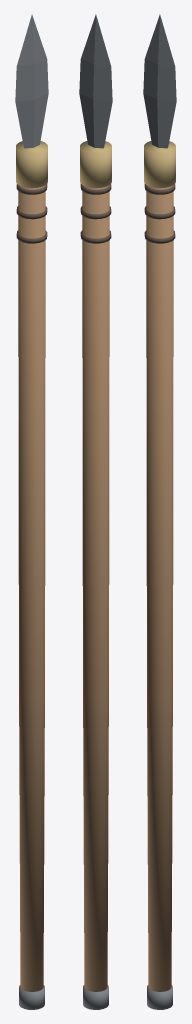
Rendered from Duseok_Spear_v1.glb.
3 views of the same model, side by side, from view 1: azimuth 30°, elevation 25°; view 2: azimuth 150°, elevation 25°; view 3: azimuth 330°, elevation 25° (orthographic).
Parts seen in each view (by area): view 1: SpearShaft, SpearBlade, SocketCollar, ButtCap, Cord0, Cord1, Cord2; view 2: SpearShaft, SpearBlade, SocketCollar, ButtCap, Cord0, Cord1, Cord2; view 3: SpearShaft, SpearBlade, SocketCollar, ButtCap, Cord0, Cord1, Cord2.
Boxes of the visible parts, x1,y1,x2,y2 form: SpearShaft: [18, 185, 45, 991]; SpearBlade: [15, 14, 48, 148]; SocketCollar: [16, 141, 47, 188]; ButtCap: [19, 985, 44, 1009]; Cord0: [16, 230, 47, 243]; Cord1: [16, 206, 47, 219]; Cord2: [16, 184, 47, 194]; SpearShaft: [82, 185, 109, 991]; SpearBlade: [79, 14, 112, 148]; SocketCollar: [80, 141, 111, 188]; ButtCap: [83, 985, 108, 1009]; Cord0: [80, 230, 111, 243]; Cord1: [80, 206, 111, 219]; Cord2: [80, 184, 111, 194]; SpearShaft: [146, 185, 173, 991]; SpearBlade: [143, 14, 176, 148]; SocketCollar: [144, 141, 175, 188]; ButtCap: [147, 985, 172, 1009]; Cord0: [144, 230, 175, 243]; Cord1: [144, 206, 175, 219]; Cord2: [144, 184, 175, 194].
Size of the model in its own units: 0.1 by 2.84 by 0.084.
